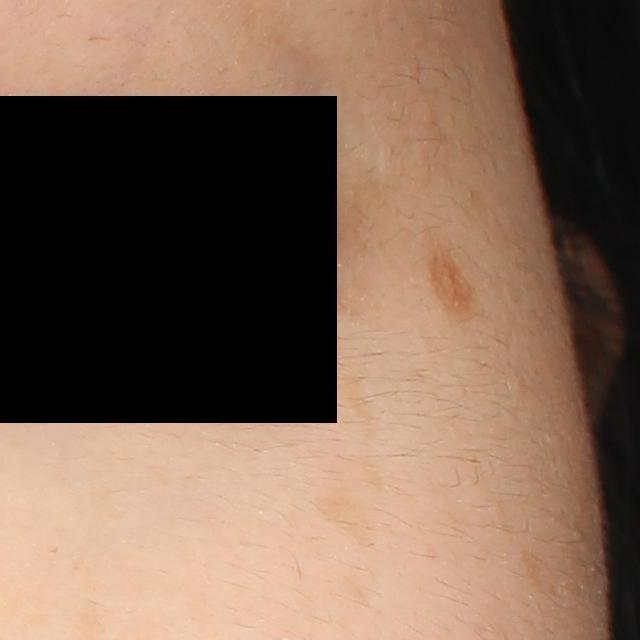melasma: (308, 480, 380, 550), (329, 361, 381, 445), (426, 244, 479, 322), (514, 540, 551, 600)
